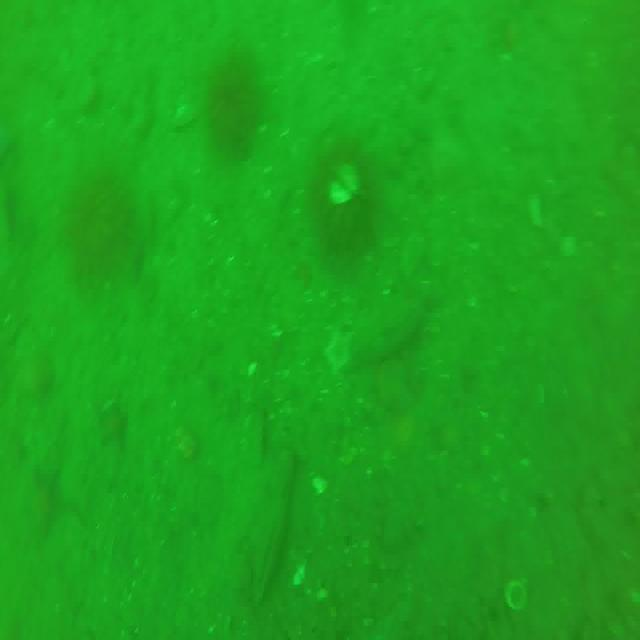echinus: (314, 142, 377, 260), (61, 168, 132, 267), (208, 37, 260, 152)
scallop: (326, 160, 361, 211), (505, 579, 523, 607)
